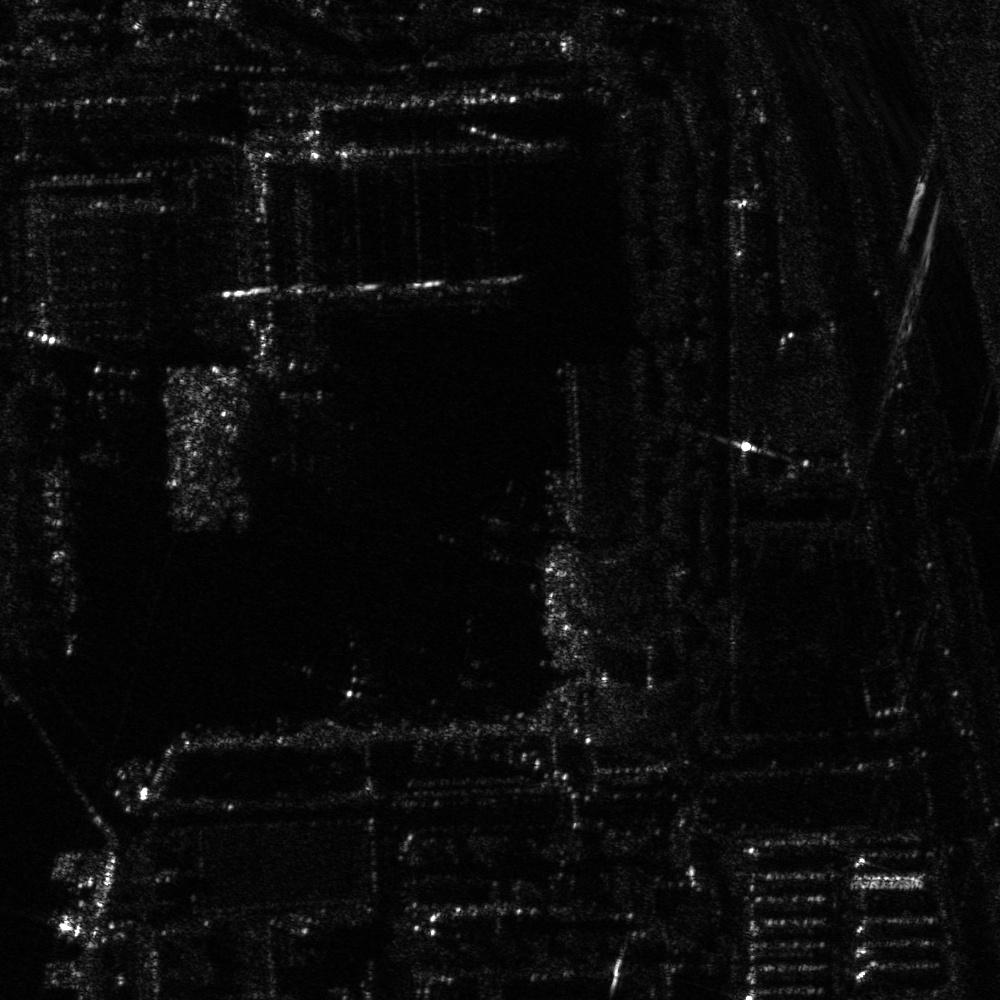Boeing737: (263, 388, 359, 477), (74, 382, 147, 469)
Boeing787: (397, 609, 503, 715)
other: (280, 621, 403, 713)
